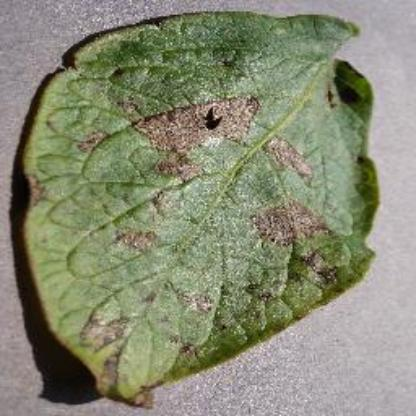Early-Blight: (18, 8, 386, 408)
